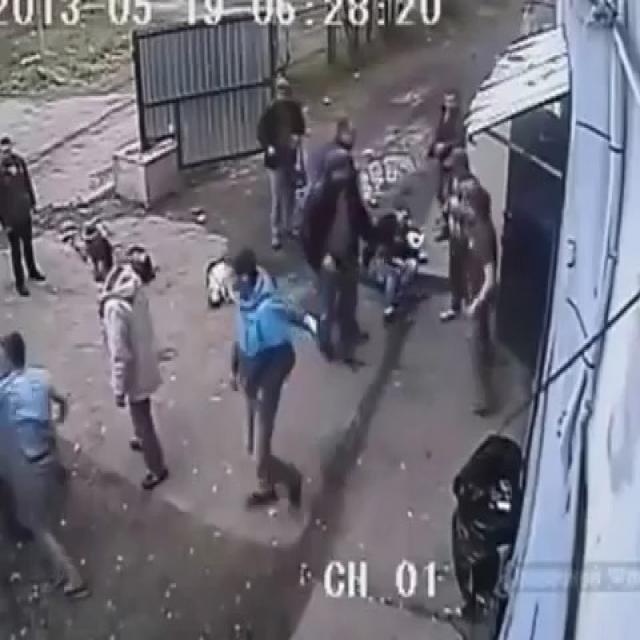fight: (257, 100, 428, 330)
